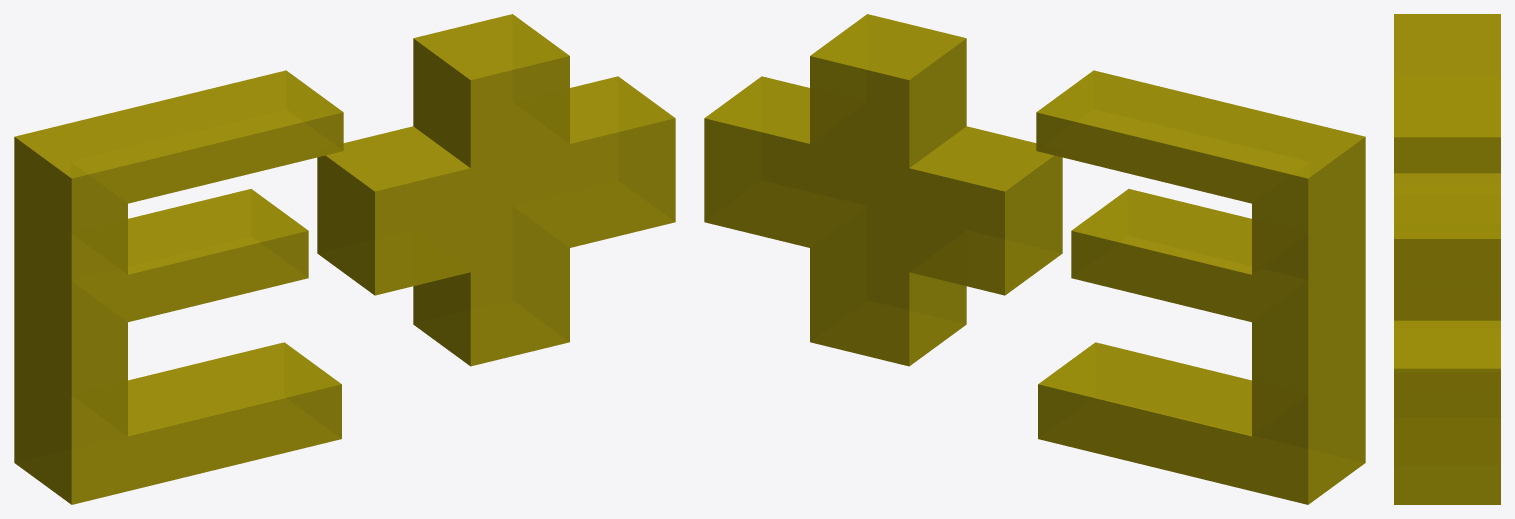
The model's file is plus3model.fbx.
3 renders of one model, left to right at view 1: azimuth 30°, elevation 25°; view 2: azimuth 150°, elevation 25°; view 3: azimuth 270°, elevation 25°, orthographic. The views are drawn at different scales.
Visible parts, largest first — view 1: plus3; view 2: plus3; view 3: plus3.
Part boxes in pixels (left/top/right/bottom): plus3: left=14, top=14, right=675, bottom=504; plus3: left=704, top=14, right=1365, bottom=504; plus3: left=1394, top=14, right=1500, bottom=504.
Size of the model in its own units: 6.07 by 3.15 by 1.
